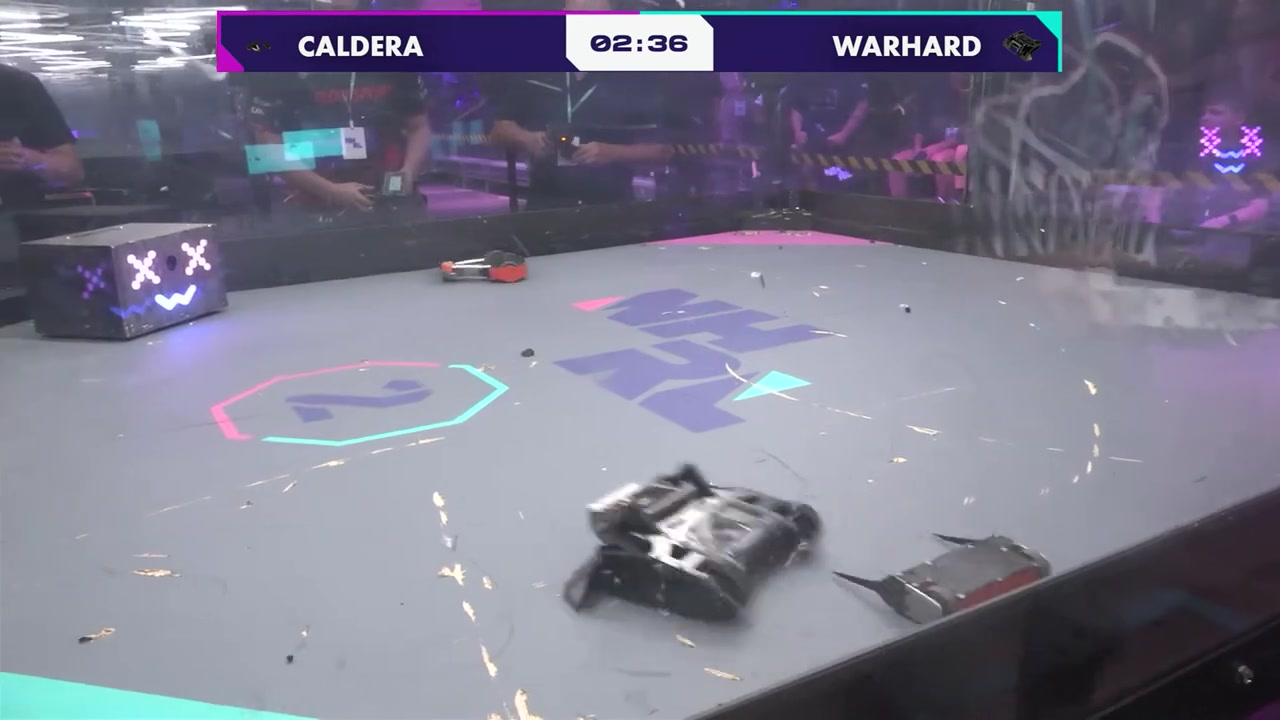combatbot: (563, 463, 820, 623), (435, 249, 531, 287)
housebot: (25, 220, 227, 342)
minibot: (835, 531, 1054, 626)
